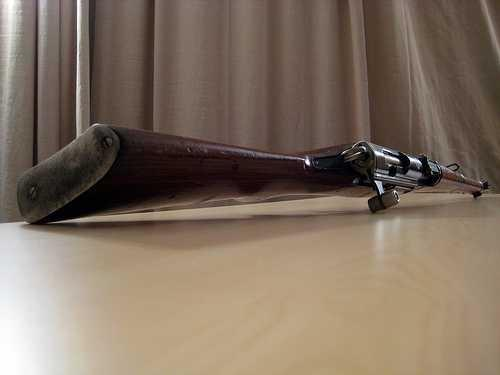heavyweapon: (12, 102, 494, 245)
